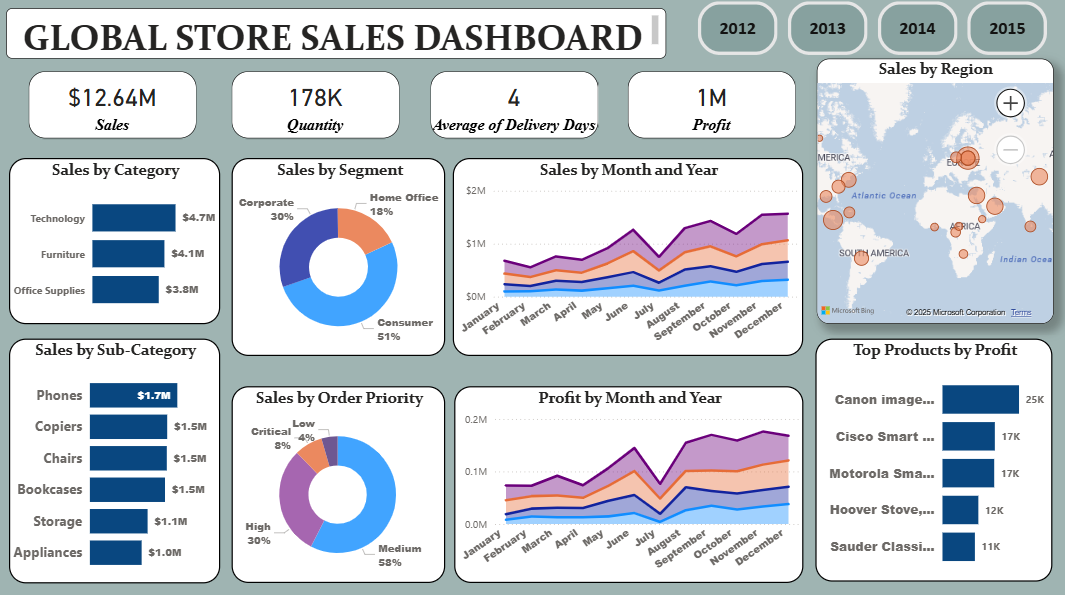

Layout of this report page (visuals, bound fields, positions):
{"tool":"powerbi","page":{"name":"Page 1","canvas":[1280,720],"ordinal":0},"visuals":[{"type":"advancedSlicerVisual","fields":{"Values":["Orders.Year"]},"box":[832,0,428,74],"z":0},{"type":"map","fields":{"Category":["Orders.Region"],"Size":["Sum(Orders.Sales)"]},"box":[978,74,282,316],"z":1000},{"type":"barChart","title":"Top Products by Profit","fields":{"Category":["Orders.Product Name"],"Y":["Sum(Orders.Profit)"]},"box":[977.4,407.3,282.5,289.4],"z":2000},{"type":"clusteredBarChart","title":"Sales by Category","fields":{"Category":["Orders.Category"],"Y":["Sum(Orders.Sales)"]},"box":[17.3,192.4,251.3,197.6],"z":3000},{"type":"clusteredBarChart","title":"Sales by Sub-Category","fields":{"Y":["Sum(Orders.Sales)"],"Category":["Orders.Sub-Category"]},"box":[17.3,407.3,251.3,291.2],"z":4000},{"type":"stackedAreaChart","title":"Profit by Month and Year","fields":{"Category":["Orders.Order Date.Variation.Date Hierarchy.Month"],"Series":["Orders.Order Date.Variation.Date Hierarchy.Year"],"Y":["Sum(Orders.Profit)"]},"box":[546,464,416,234],"z":6000},{"type":"card","fields":{"Values":["Sum(Orders.Sales)"]},"box":[40,88,200,80],"z":7000},{"type":"card","fields":{"Values":["Sum(Orders.Quantity)"]},"box":[282,88,200,80],"z":8000},{"type":"card","fields":{"Values":["Avg(Orders.Delivery Days)"]},"box":[518,88,200,80],"z":9000},{"type":"card","fields":{"Values":["Sum(Orders.Profit)"]},"box":[754,88,200,80],"z":10000},{"type":"donutChart","title":"Sales by Segment","fields":{"Category":["Orders.Segment"],"Y":["Sum(Orders.Sales)"]},"box":[282,192,254,236],"z":11000},{"type":"donutChart","title":"Sales by Order Priority","fields":{"Y":["Sum(Orders.Sales)"],"Category":["Orders.Order Priority"]},"box":[282,464,254,234],"z":12000},{"type":"textbox","box":[14,14,786,60],"z":13000},{"type":"stackedAreaChart","title":"Sales by Month and Year","fields":{"Category":["Orders.Order Date.Variation.Date Hierarchy.Month"],"Y":["Sum(Orders.Sales)"],"Series":["Orders.Order Date.Variation.Date Hierarchy.Year"]},"box":[545.4,192.2,416.8,236],"z":13002}]}

Visuals, with their boxes in screenshot pixels (x1, y1, x2, y2), scaled from the page's 1280x720 canvas onto the 1065x595 screenshot:
advancedSlicerVisual - Orders.Year: [x1=692, y1=0, x2=1048, y2=61]
map - Orders.Region x Sum(Orders.Sales): [x1=814, y1=61, x2=1048, y2=322]
"Top Products by Profit" barChart: [x1=813, y1=337, x2=1048, y2=576]
"Sales by Category" clusteredBarChart: [x1=14, y1=159, x2=223, y2=322]
"Sales by Sub-Category" clusteredBarChart: [x1=14, y1=337, x2=223, y2=577]
"Profit by Month and Year" stackedAreaChart: [x1=454, y1=383, x2=800, y2=577]
card - Sum(Orders.Sales): [x1=33, y1=73, x2=200, y2=139]
card - Sum(Orders.Quantity): [x1=235, y1=73, x2=401, y2=139]
card - Avg(Orders.Delivery Days): [x1=431, y1=73, x2=597, y2=139]
card - Sum(Orders.Profit): [x1=627, y1=73, x2=794, y2=139]
"Sales by Segment" donutChart: [x1=235, y1=159, x2=446, y2=354]
"Sales by Order Priority" donutChart: [x1=235, y1=383, x2=446, y2=577]
textbox: [x1=12, y1=12, x2=666, y2=61]
"Sales by Month and Year" stackedAreaChart: [x1=454, y1=159, x2=801, y2=354]
